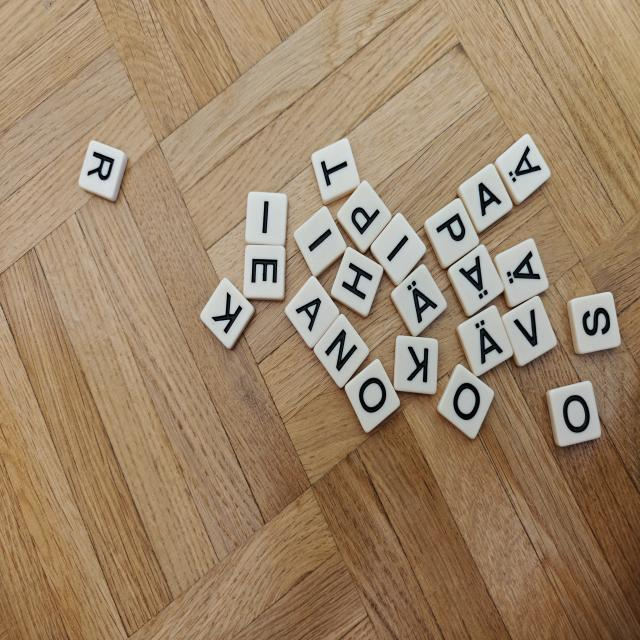a: (285, 276, 339, 348), (457, 164, 512, 233)
a_dot: (447, 245, 504, 316), (391, 265, 447, 336), (457, 306, 513, 376), (495, 134, 550, 204), (493, 239, 549, 307)
e: (243, 244, 286, 300)
h: (331, 248, 383, 317)
i: (371, 213, 426, 285), (294, 206, 346, 276), (245, 191, 288, 246)
k: (200, 278, 254, 349), (393, 336, 438, 394)
n: (314, 314, 369, 388)
o: (437, 364, 494, 439), (345, 359, 400, 432), (546, 381, 601, 446)
p: (338, 181, 392, 253), (425, 199, 478, 268)
r: (79, 141, 127, 201)
s: (567, 292, 620, 354)
t: (311, 138, 360, 204)
v: (501, 296, 557, 366)
